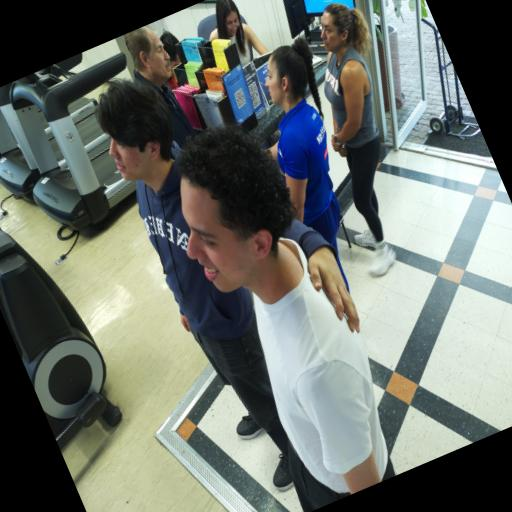person: (178, 127, 394, 511), (96, 80, 291, 491), (321, 3, 395, 276), (266, 39, 339, 250), (124, 26, 195, 147), (209, 0, 267, 66), (160, 30, 180, 90)
